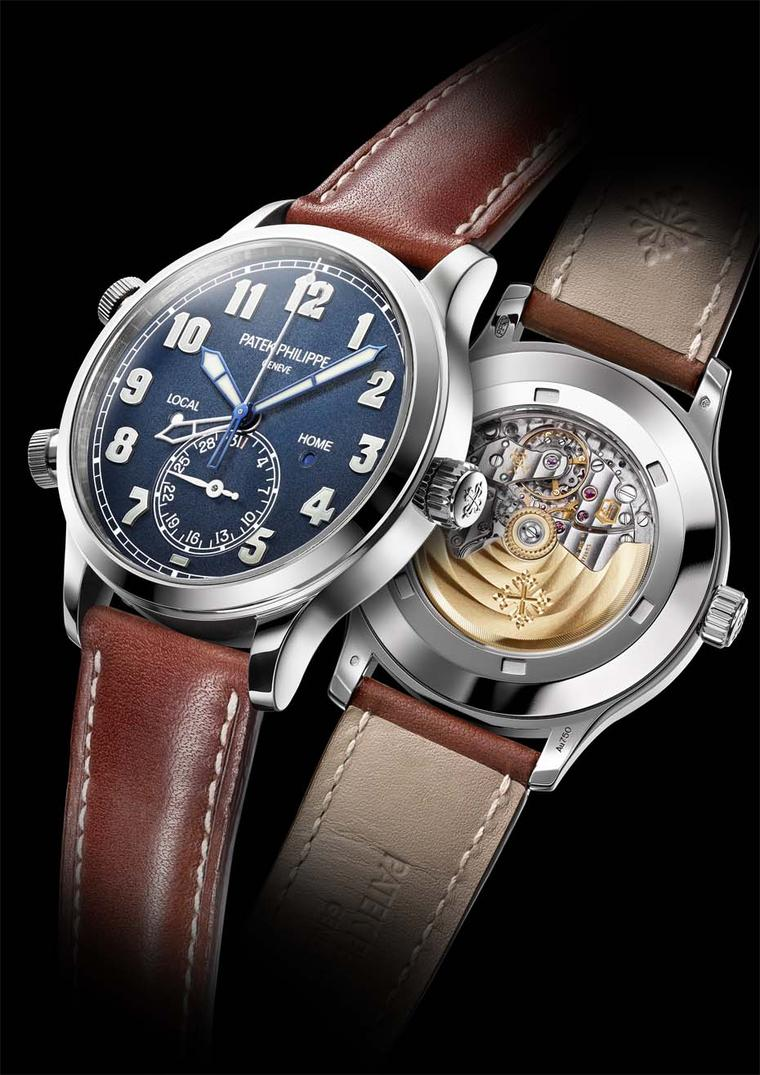clock: (79, 232, 411, 585)
